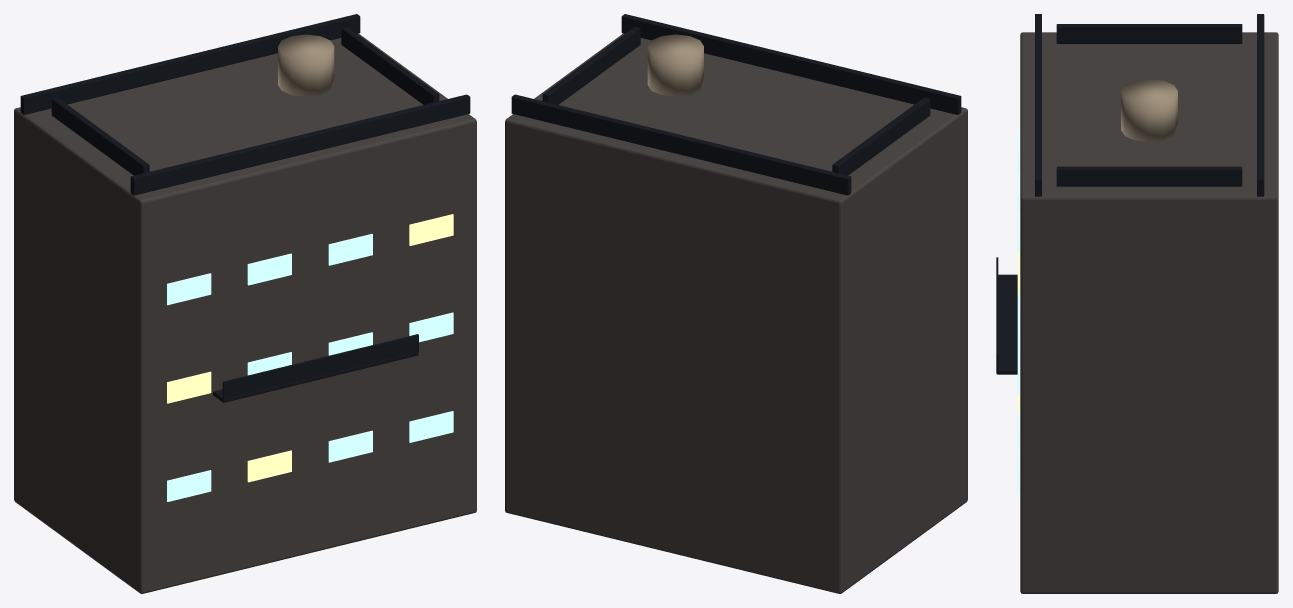
Rendered from Building_C.fbx.
The picture shows the model from 3 angles, left to right: view 1: azimuth 30°, elevation 25°; view 2: azimuth 150°, elevation 25°; view 3: azimuth 270°, elevation 25°; orthographic projection.
Parts seen in each view (by area): view 1: Building_002; view 2: Building_002; view 3: Building_002.
Part boxes in pixels (x1,y1,x2,y2): Building_002: (14,14,476,593); Building_002: (505,14,967,593); Building_002: (996,14,1278,593).
Size of the model in its own units: 8.68 by 10.99 by 6.24.
